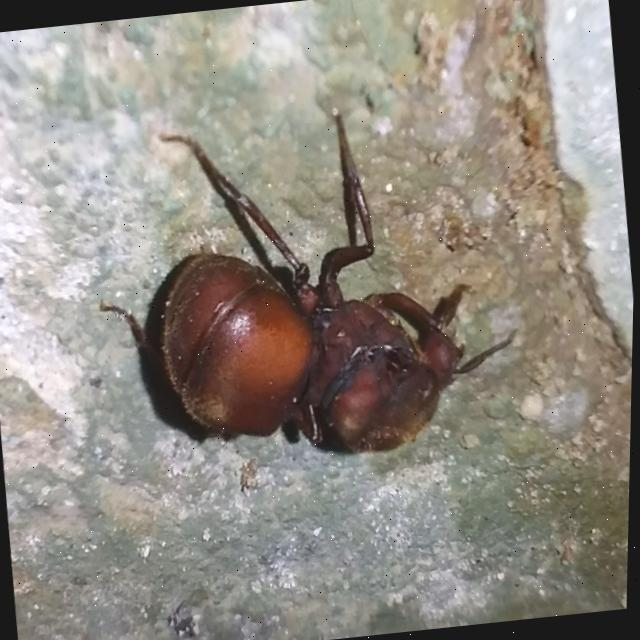Alive-Female-Dealate: (79, 93, 535, 482)
